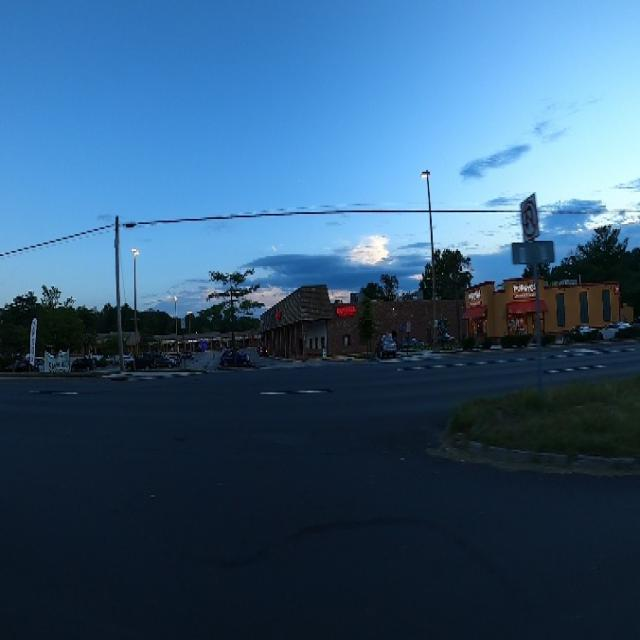cars: (215, 342, 251, 373), (564, 318, 602, 347), (600, 318, 634, 346), (122, 350, 153, 374), (68, 351, 97, 376), (376, 328, 397, 359), (399, 332, 425, 357), (152, 351, 176, 370)
